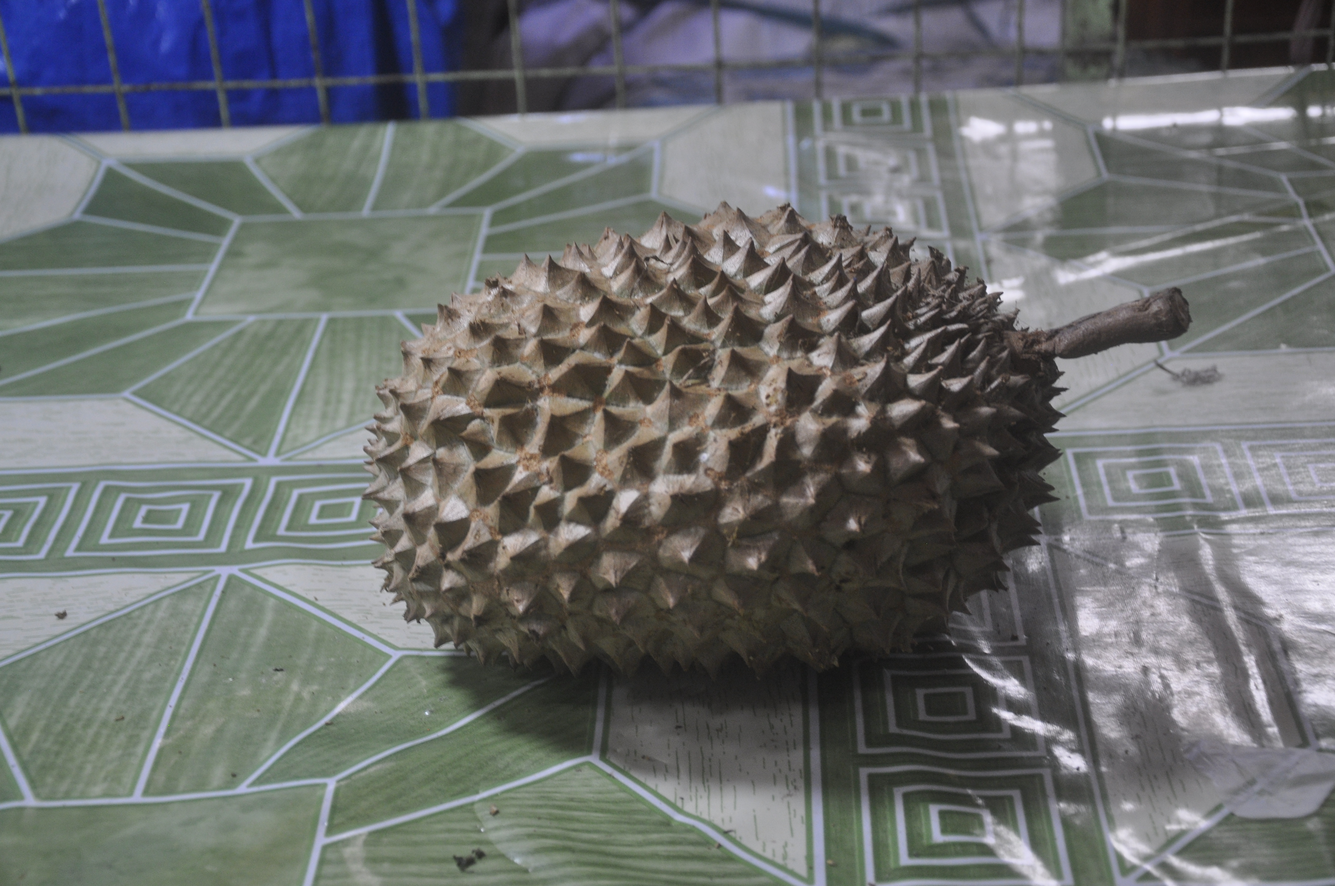mature: (366, 203, 1061, 678)
